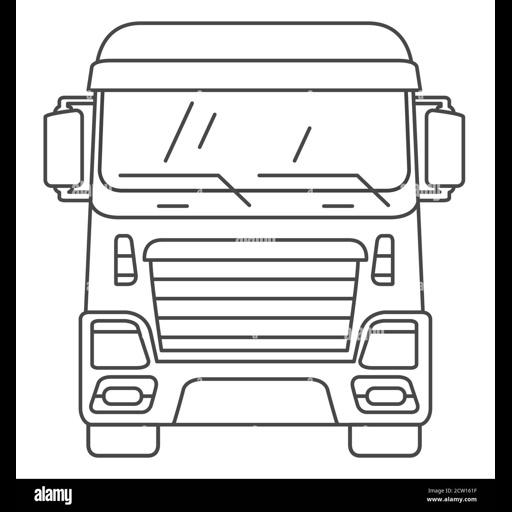truck: (41, 20, 467, 456)
